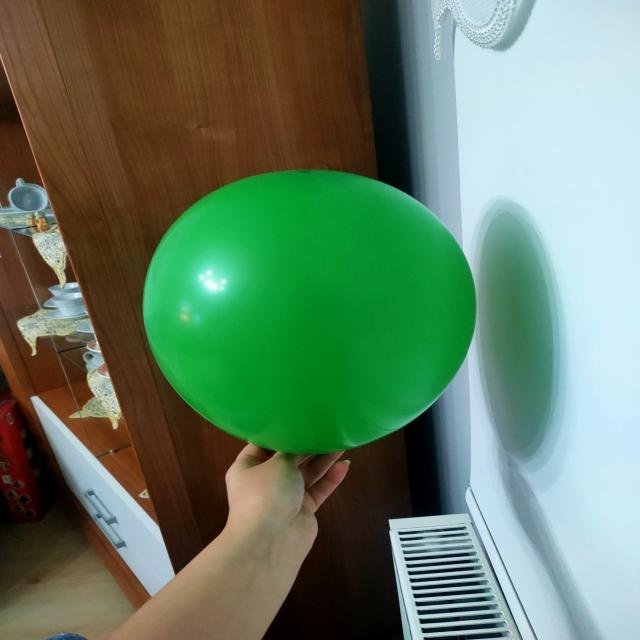green: (144, 171, 480, 457)
